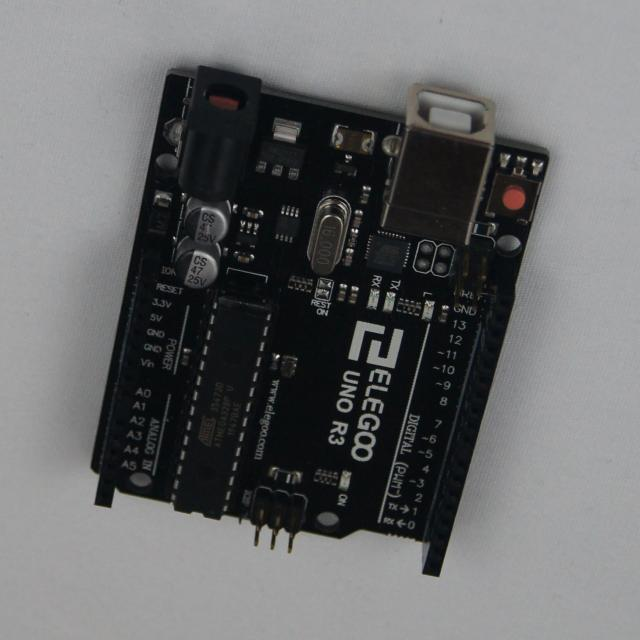Arduino Uno -Black-: (92, 67, 549, 576)
